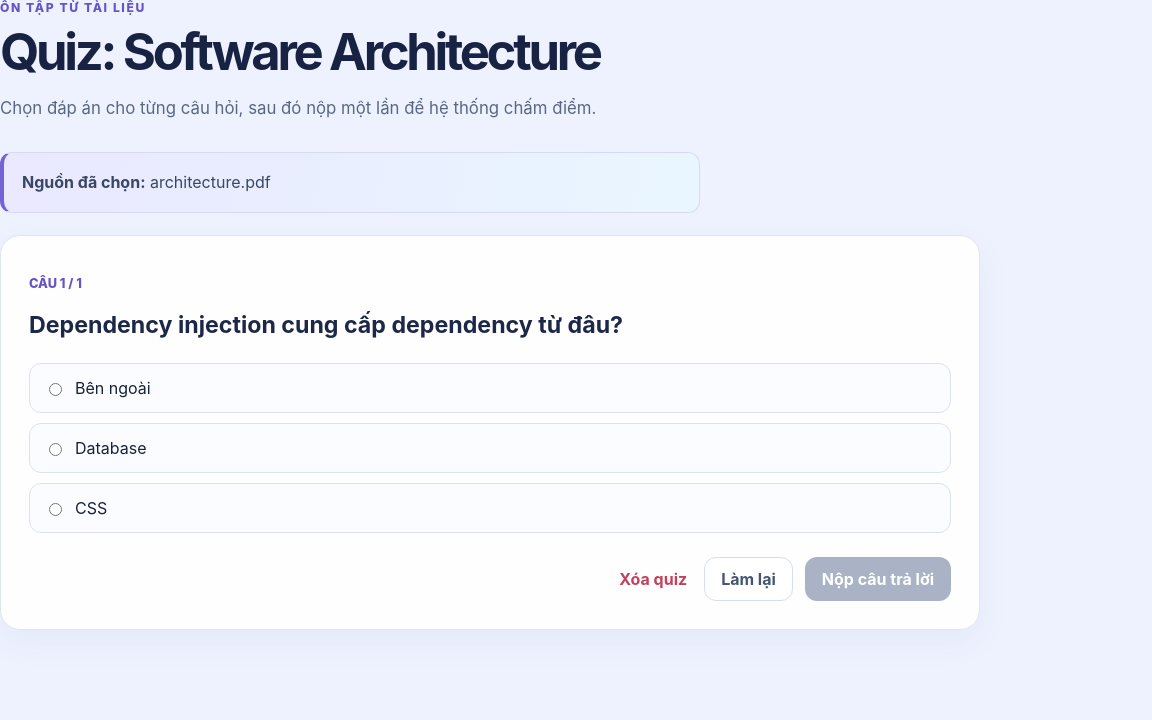
Test: QuizPage regression states › submits a valid answer with feedback and resets the attempt
Check: the button "Nộp câu trả lời" is disabled, box [805,557,951,601]
Click the radio button labelled "Bên ngoài" at (56, 389), box [49,381,62,398]
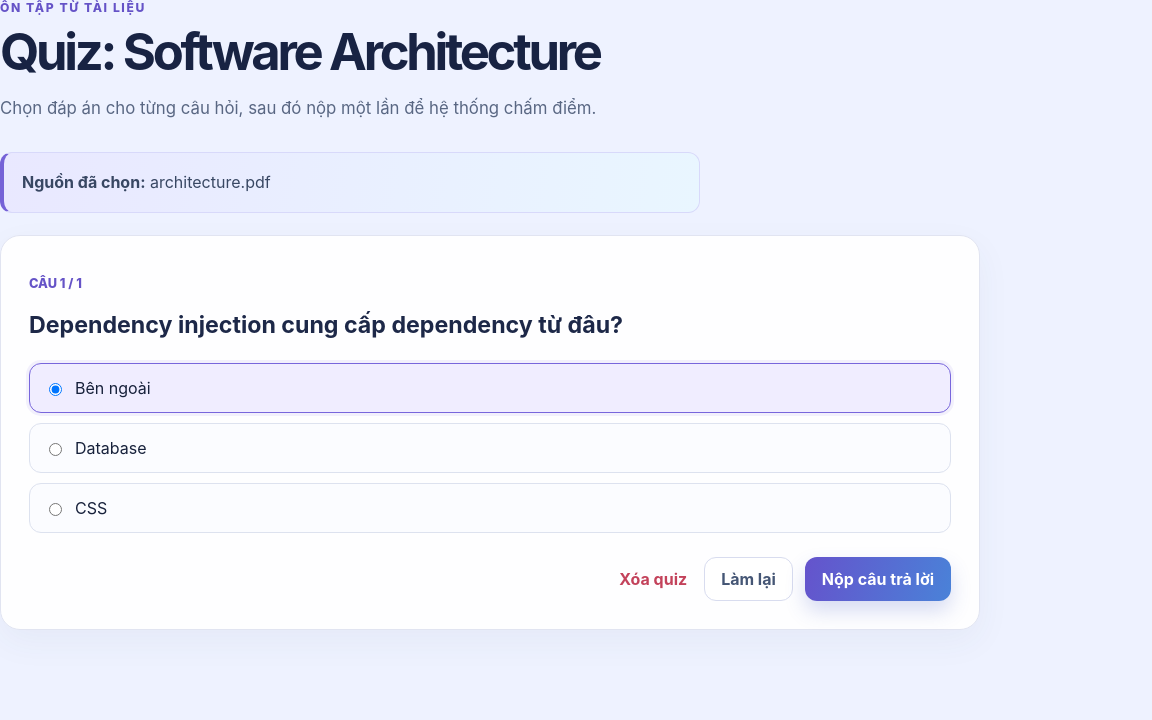
Check: the button "Nộp câu trả lời" is enabled
Click the button "Nộp câu trả lời" at (878, 579), box [805,557,951,601]
(page scrolled)
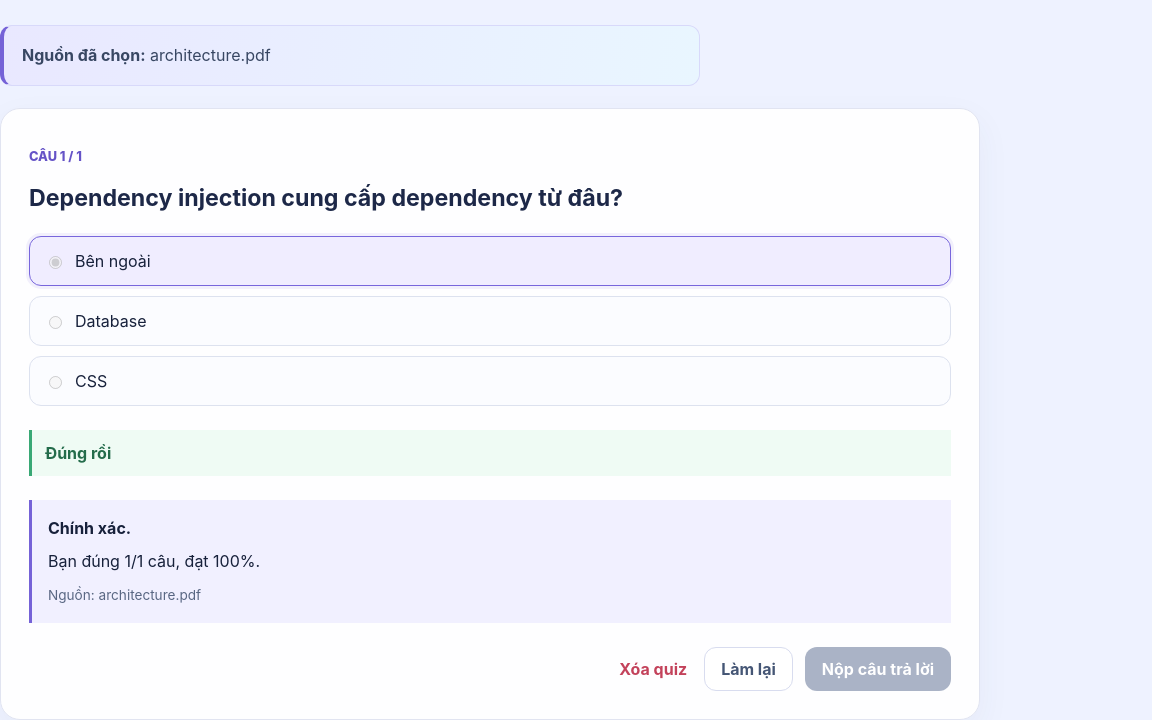
Check: the text "Chính xác." is shown, box [48,518,131,538]
Check: the text "Nguồn: architecture.pdf" is shown, box [48,587,201,603]
Check: the button "Nộp câu trả lời" is disabled, box [805,647,951,691]
Click the button "Làm lại" at (748, 669), box [704,647,793,691]
(page scrolled)
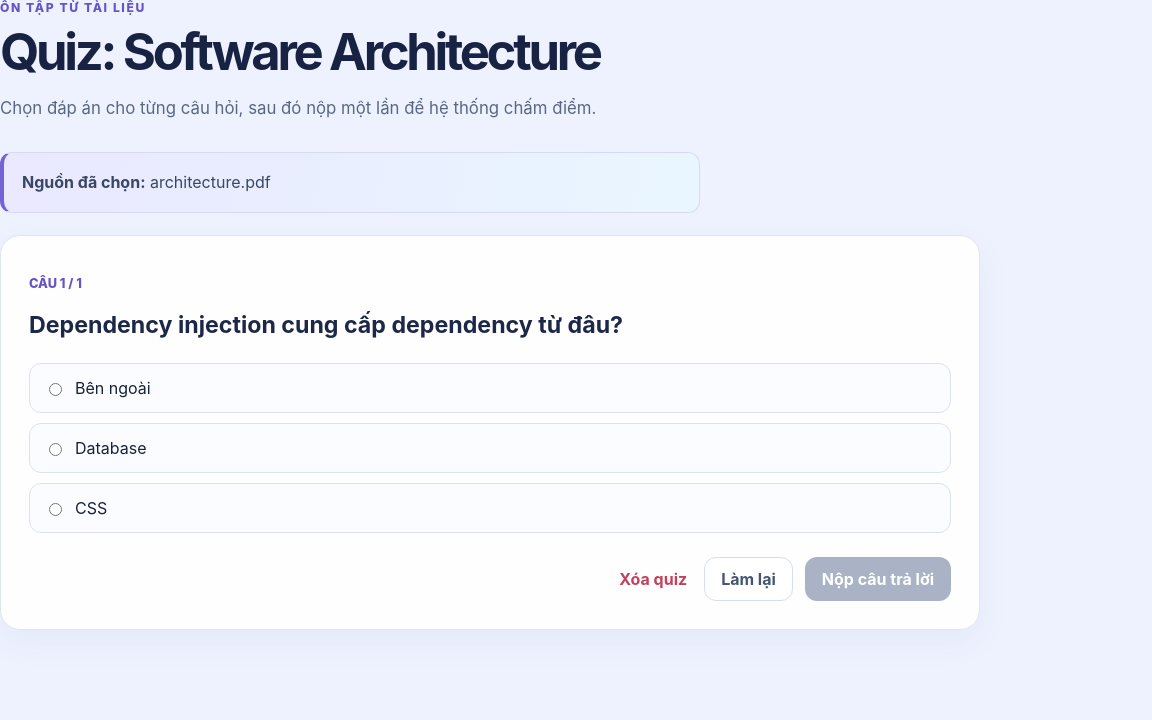
Check: the button "Nộp câu trả lời" is disabled, box [805,557,951,601]
Check: the text "Chính xác." is gone
